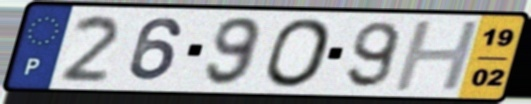2: (59, 13, 124, 84)
6: (126, 16, 184, 85)
9: (203, 15, 265, 88), (344, 20, 404, 90)
H: (390, 18, 485, 94)
O: (263, 16, 336, 90)
